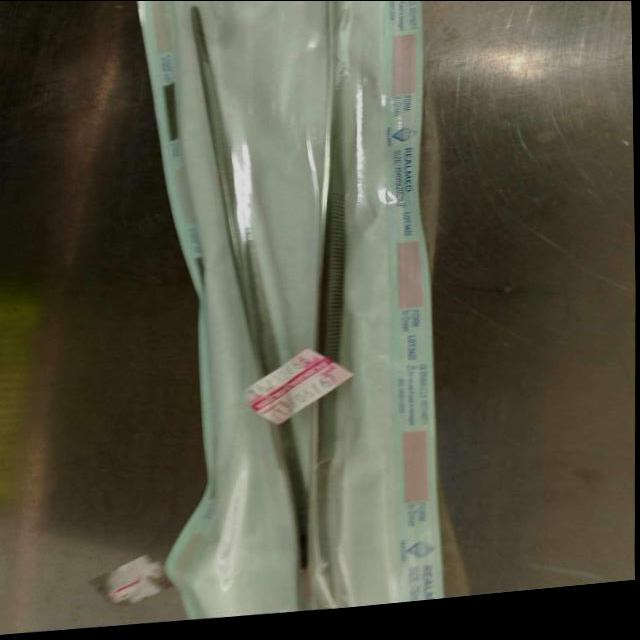General: (124, 2, 442, 619)
